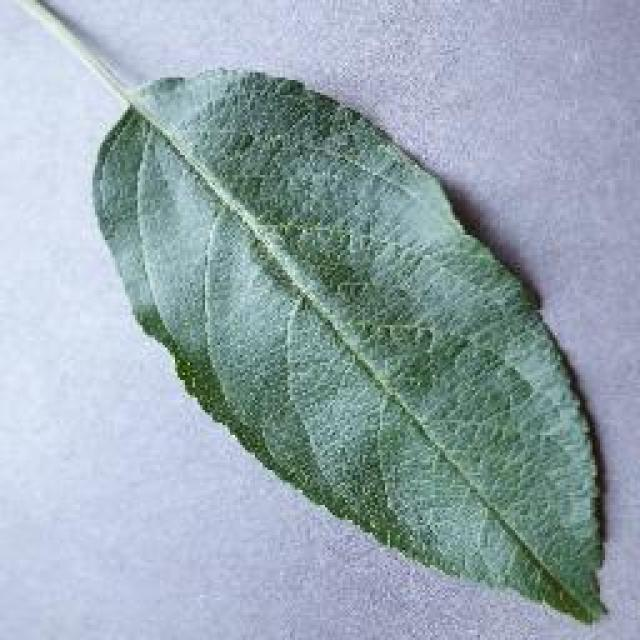apple healthy: (0, 0, 612, 625)
